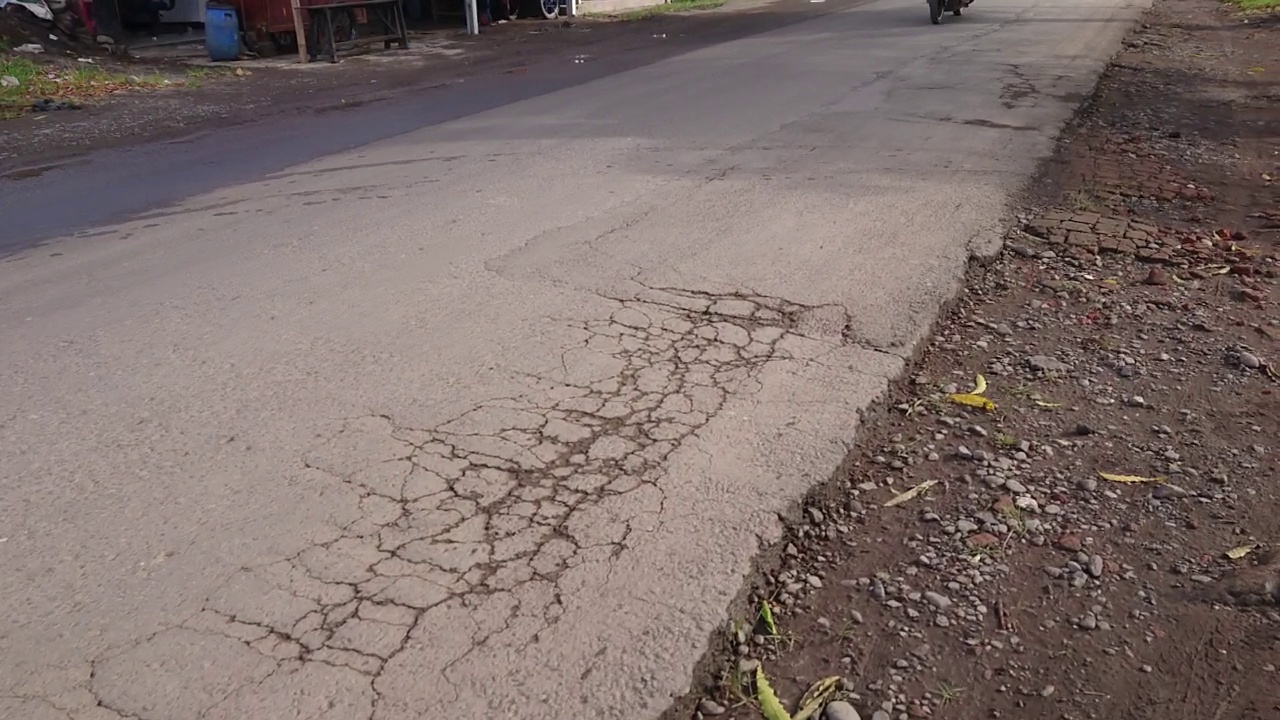Retak: (200, 278, 790, 697), (992, 59, 1071, 123)
